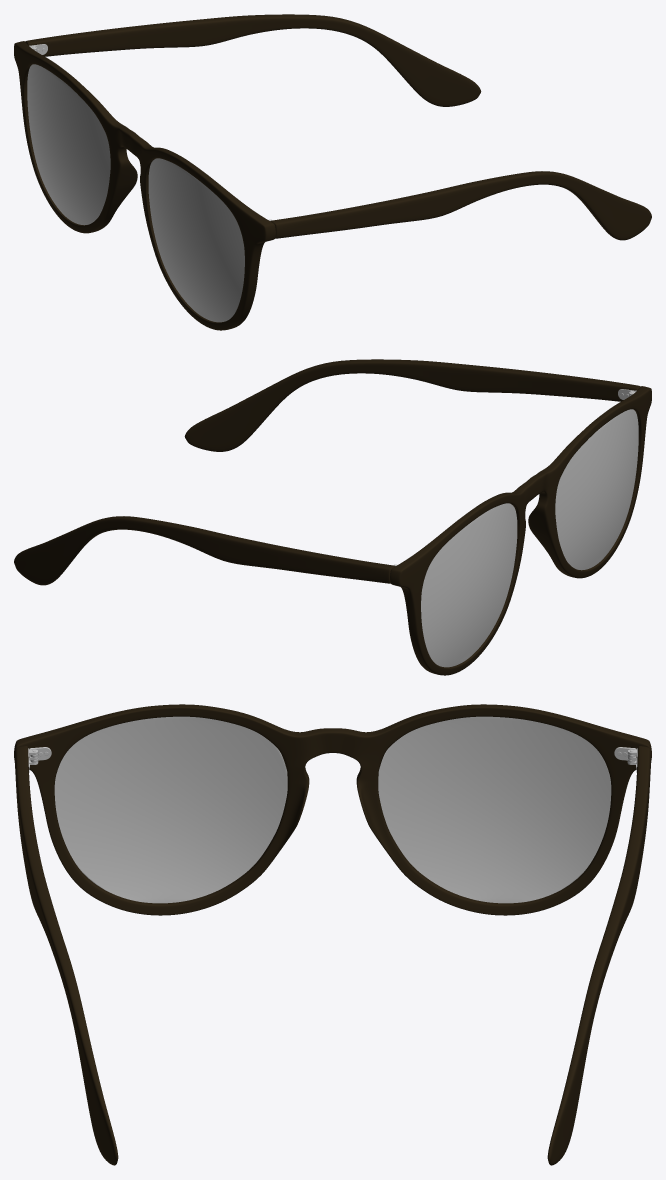
File: glasses.gltf
3 views of the same model, one above another, from view 1: azimuth 30°, elevation 25°; view 2: azimuth 150°, elevation 25°; view 3: azimuth 270°, elevation 25° (orthographic). The views are drawn at different scales.
Visible parts, largest first — view 1: Sphere001, Line001, Line003, Sphere002, Line002; view 2: Sphere002, Line001, Line002, Sphere001, Line003; view 3: Sphere001, Sphere002, Line001, Line002, Line003.
Part boxes in pixels (bbox=[...]): Sphere001: bbox=[148, 158, 244, 322]; Line001: bbox=[14, 41, 275, 330]; Line003: bbox=[25, 14, 481, 106]; Sphere002: bbox=[27, 64, 110, 225]; Line002: bbox=[270, 171, 651, 240]; Sphere002: bbox=[421, 503, 517, 667]; Line001: bbox=[390, 386, 651, 675]; Line002: bbox=[184, 359, 640, 451]; Sphere001: bbox=[555, 409, 638, 570]; Line003: bbox=[14, 516, 395, 585]; Sphere001: bbox=[54, 716, 287, 903]; Sphere002: bbox=[378, 716, 611, 903]; Line001: bbox=[14, 704, 651, 915]; Line002: bbox=[14, 746, 118, 1165]; Line003: bbox=[547, 746, 651, 1165].
Bounding box in the file's own units: 149 × 51.3 × 147.
